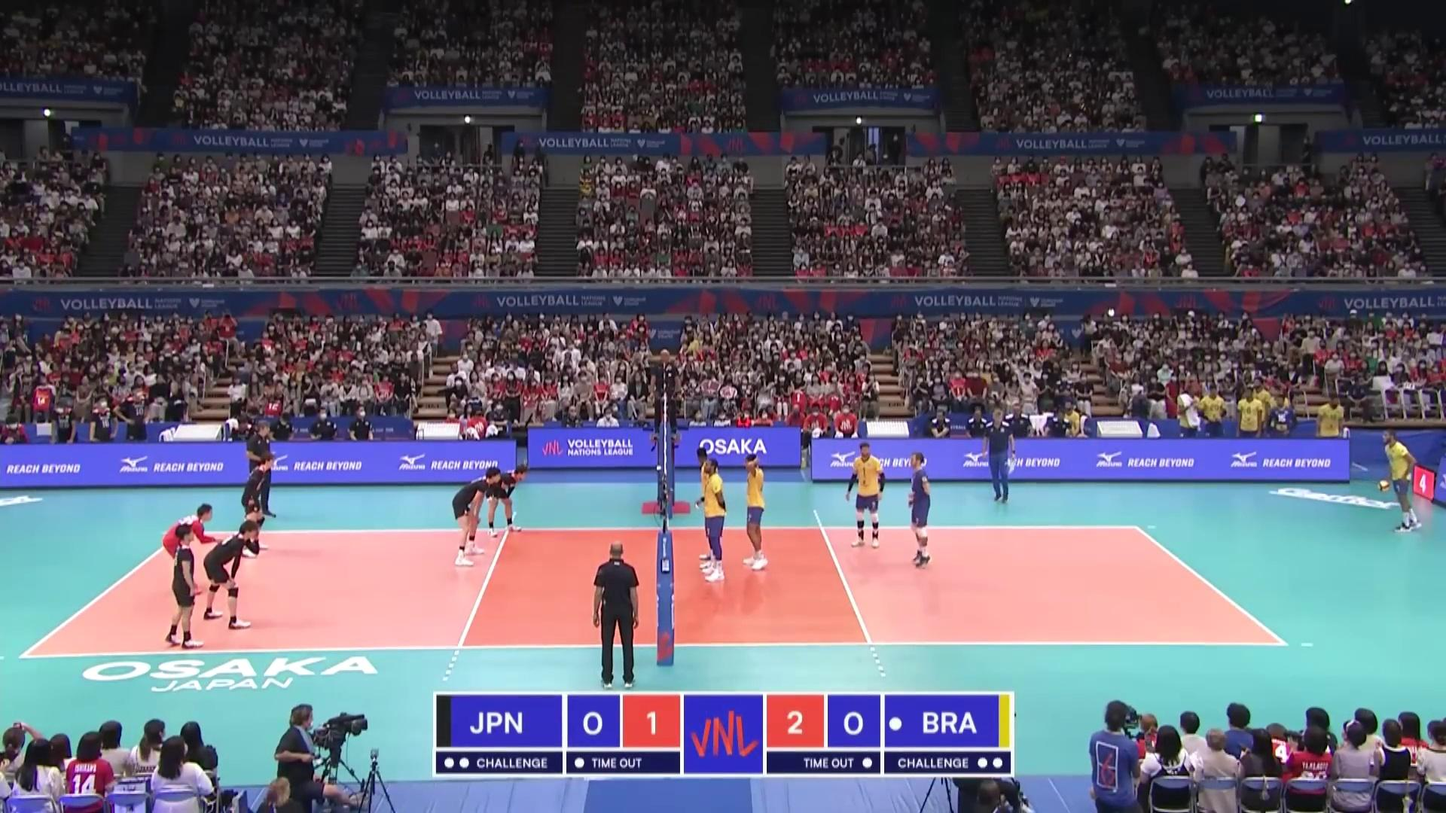player: (196, 521, 258, 630), (160, 503, 219, 597), (163, 524, 204, 650), (1376, 428, 1422, 534), (452, 469, 501, 568), (849, 445, 886, 549), (239, 454, 276, 556), (694, 448, 721, 570), (904, 452, 933, 565), (701, 457, 726, 586), (742, 453, 767, 570), (488, 465, 528, 536)
refree: (591, 542, 640, 686), (650, 350, 678, 441)
